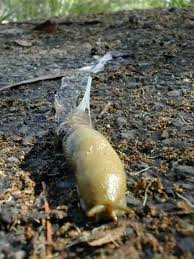slug: (54, 119, 130, 223)
